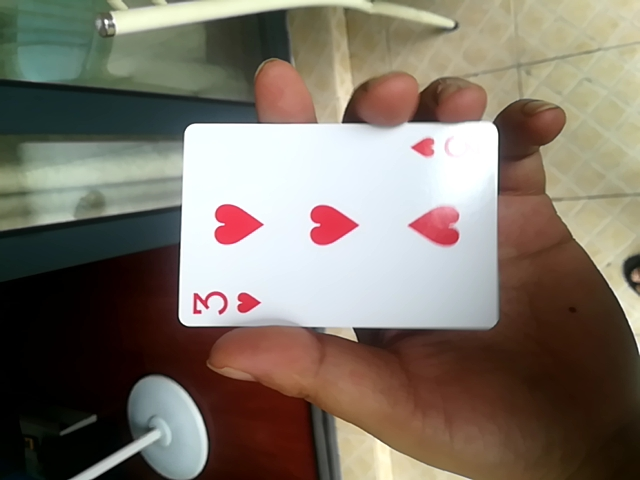hx 3: (174, 123, 491, 335)
